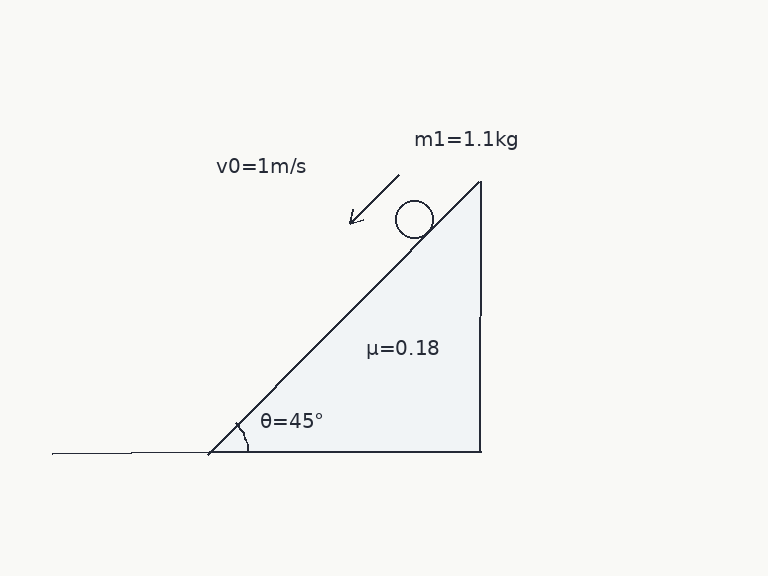ball: (393, 198, 435, 240)
ramp: (206, 178, 482, 454)
